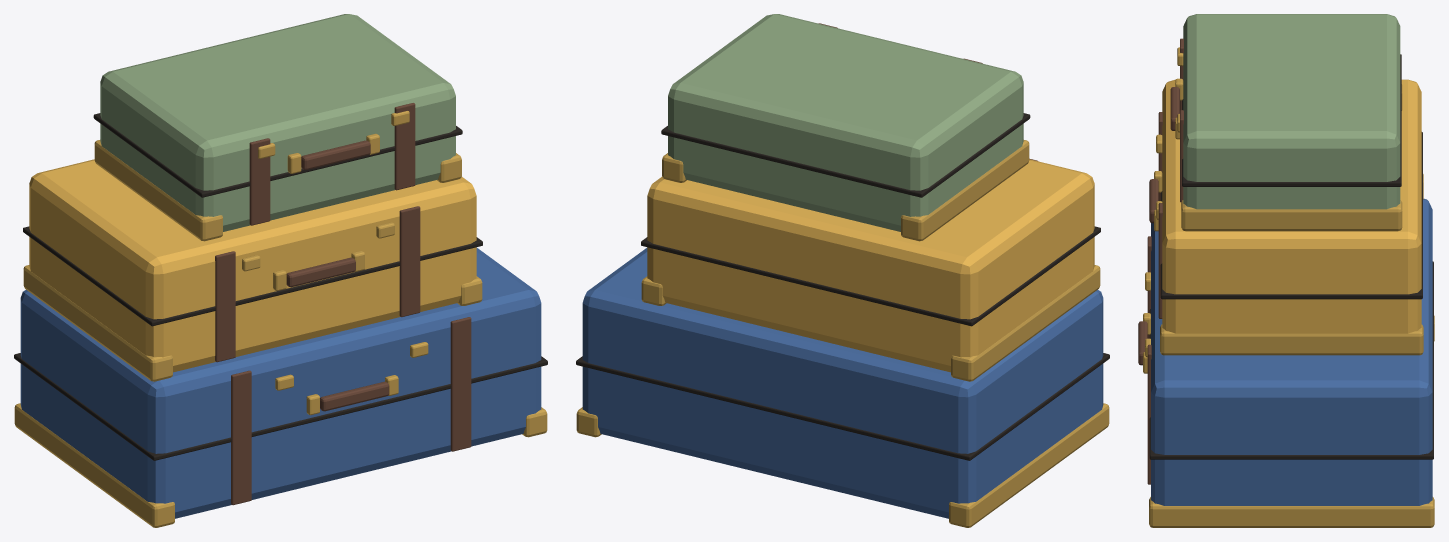
File: hh_cat_suitcase_stack.glb
3 renders of one model, left to right at view 1: azimuth 30°, elevation 25°; view 2: azimuth 150°, elevation 25°; view 3: azimuth 270°, elevation 25°, orthographic.
Visible parts, largest first — view 1: case, case.001, case.002, corner, corner.002, corner.004, strap.001, zip, strap, zip.001, strap.003, strap.002 (+6 smaller); view 2: case, case.001, case.002, corner, corner.002, zip, corner.004, zip.001, zip.002; view 3: case, case.002, case.001, corner.001, corner.003, corner.005, zip.001, zip, zip.002, strap.001, strap.003, handle.002.
Boxes of the visible parts, box(x1,y1,x2,y2) form: case: box(20, 248, 541, 518); case.001: box(29, 159, 476, 372); case.002: box(100, 14, 455, 231); corner: box(14, 403, 174, 527); corner.002: box(23, 265, 172, 381); corner.004: box(94, 140, 222, 241); strap.001: box(450, 317, 471, 451); zip: box(14, 353, 547, 460); strap: box(231, 370, 251, 505); zip.001: box(23, 226, 482, 326); strap.003: box(399, 206, 420, 317); strap.002: box(215, 251, 235, 362); case: box(582, 248, 1103, 518); case.001: box(647, 159, 1094, 372); case.002: box(668, 14, 1023, 231); corner: box(949, 403, 1109, 527); corner.002: box(951, 265, 1100, 381); zip: box(576, 353, 1109, 460); corner.004: box(901, 140, 1029, 241); zip.001: box(641, 226, 1100, 326); zip.002: box(661, 113, 1030, 197); case: box(1151, 198, 1432, 505); case.002: box(1183, 14, 1400, 209); case.001: box(1162, 79, 1421, 333); corner.001: box(1149, 497, 1434, 527); corner.003: box(1160, 324, 1423, 355); corner.005: box(1181, 200, 1402, 231); zip.001: box(1160, 132, 1422, 299); zip: box(1149, 261, 1433, 459); zip.002: box(1182, 54, 1401, 186); strap.001: box(1147, 344, 1151, 484); strap.003: box(1158, 203, 1162, 318); handle.002: box(1170, 87, 1179, 130).
Size of the model in its own units: 0.7 by 0.6 by 0.45.
